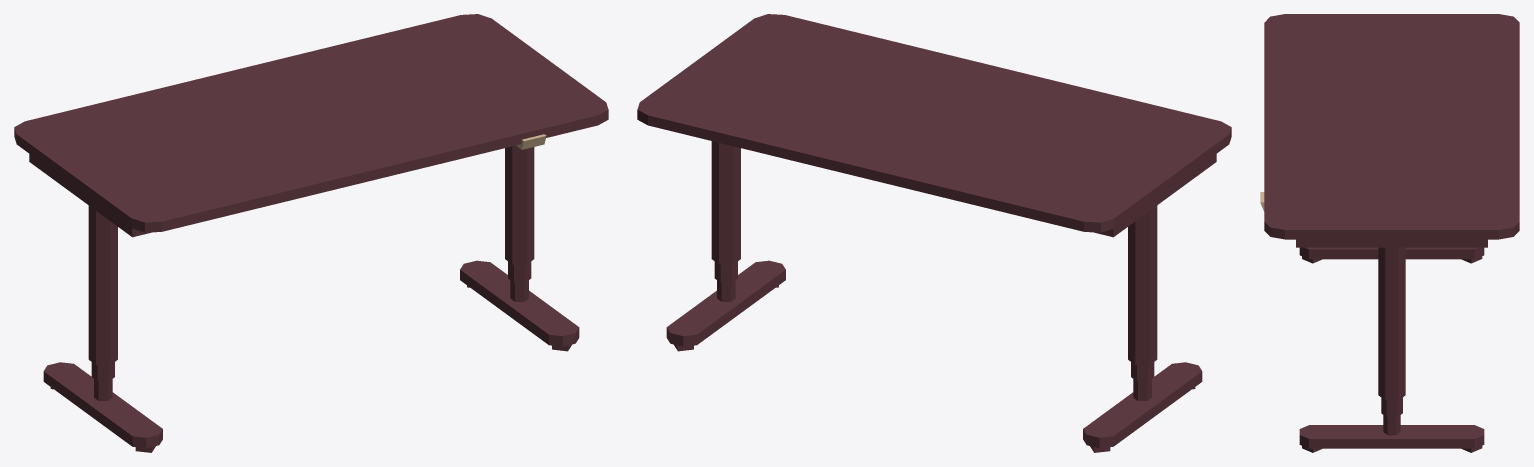
Rendered from table-gaming.fbx.
The picture shows the model from 3 angles, left to right: view 1: azimuth 30°, elevation 25°; view 2: azimuth 150°, elevation 25°; view 3: azimuth 270°, elevation 25°; orthographic projection. The views are drawn at different scales.
Parts seen in each view (by area): view 1: table-gaming; view 2: table-gaming; view 3: table-gaming.
Part boxes in pixels (x1=…): table-gaming: x1=14, y1=14, x2=608, y2=452; table-gaming: x1=637, y1=14, x2=1231, y2=452; table-gaming: x1=1260, y1=14, x2=1519, y2=452.
Size of the model in its own units: 1.6 by 0.8 by 0.8127.
